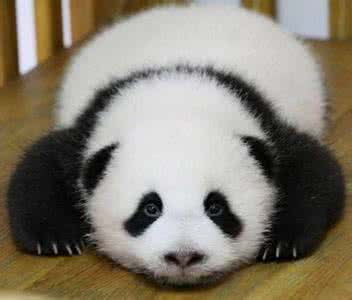panda: (1, 3, 345, 292)
